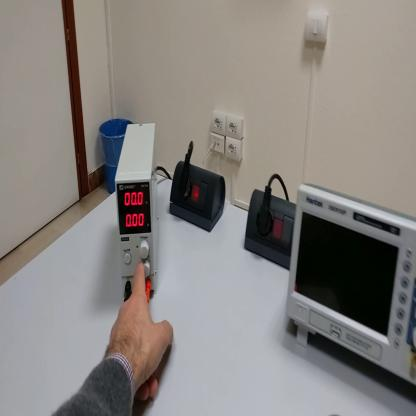hand: (107, 260, 174, 400)
oscilloscope: (287, 176, 416, 388)
power supply: (114, 124, 156, 295)
socket: (166, 158, 229, 235), (244, 184, 298, 270)
